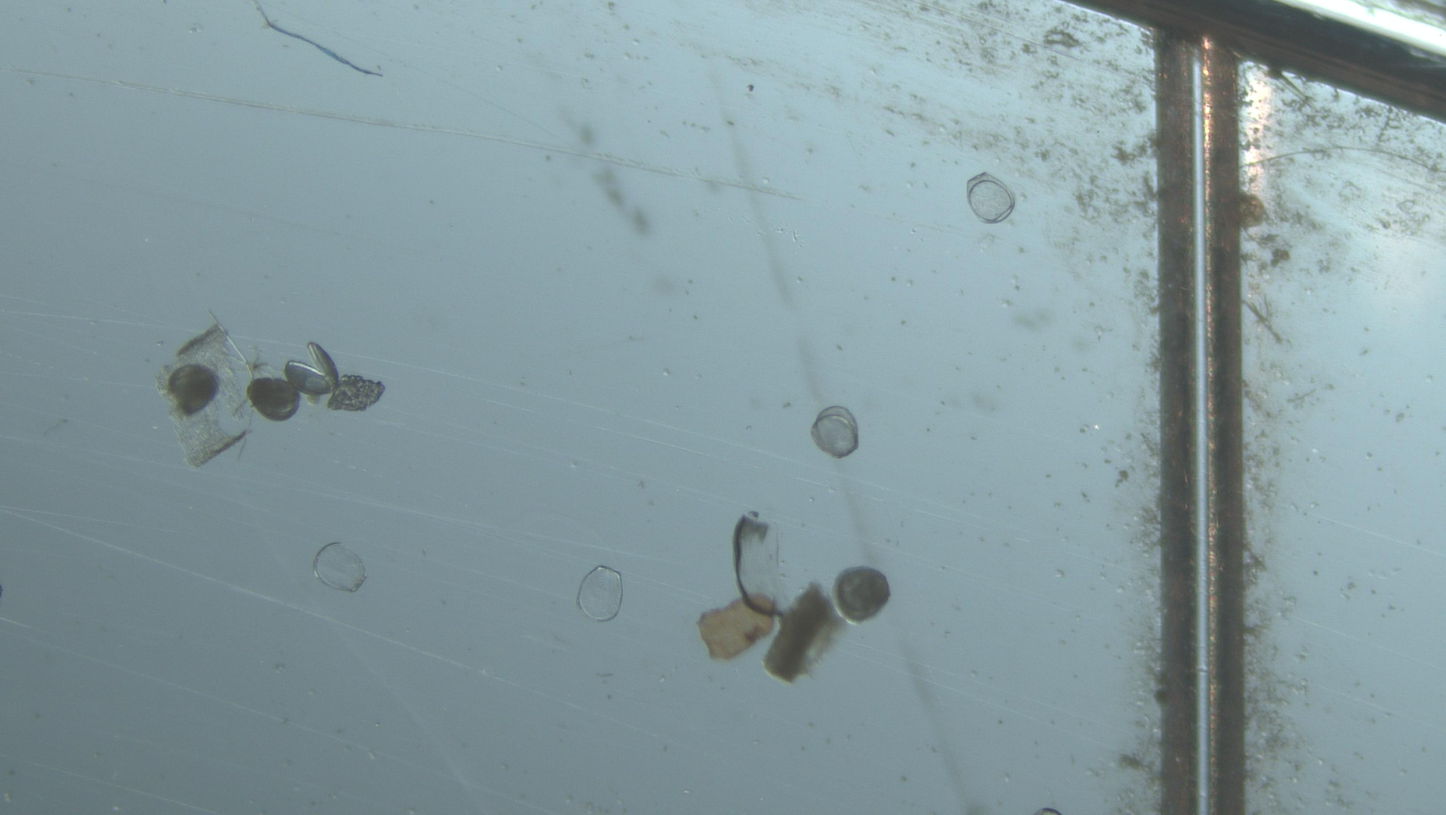dead: (313, 543, 365, 592), (811, 406, 859, 458), (967, 173, 1015, 224), (578, 567, 622, 621)
live: (834, 567, 890, 623), (167, 364, 217, 415), (248, 378, 300, 421), (285, 361, 334, 396), (308, 342, 339, 388)
